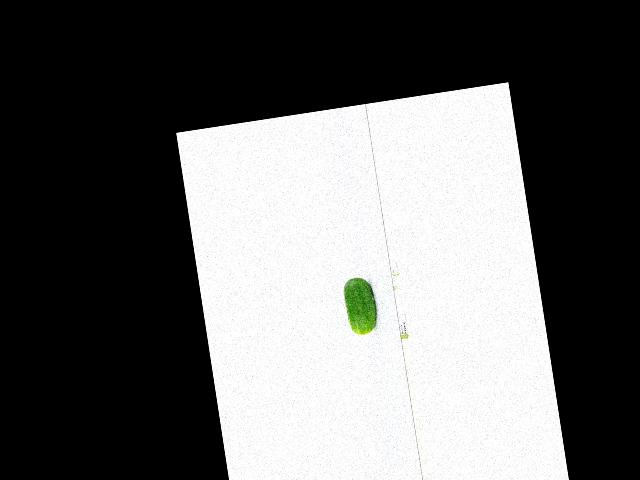cucumber: (342, 275, 379, 336)
